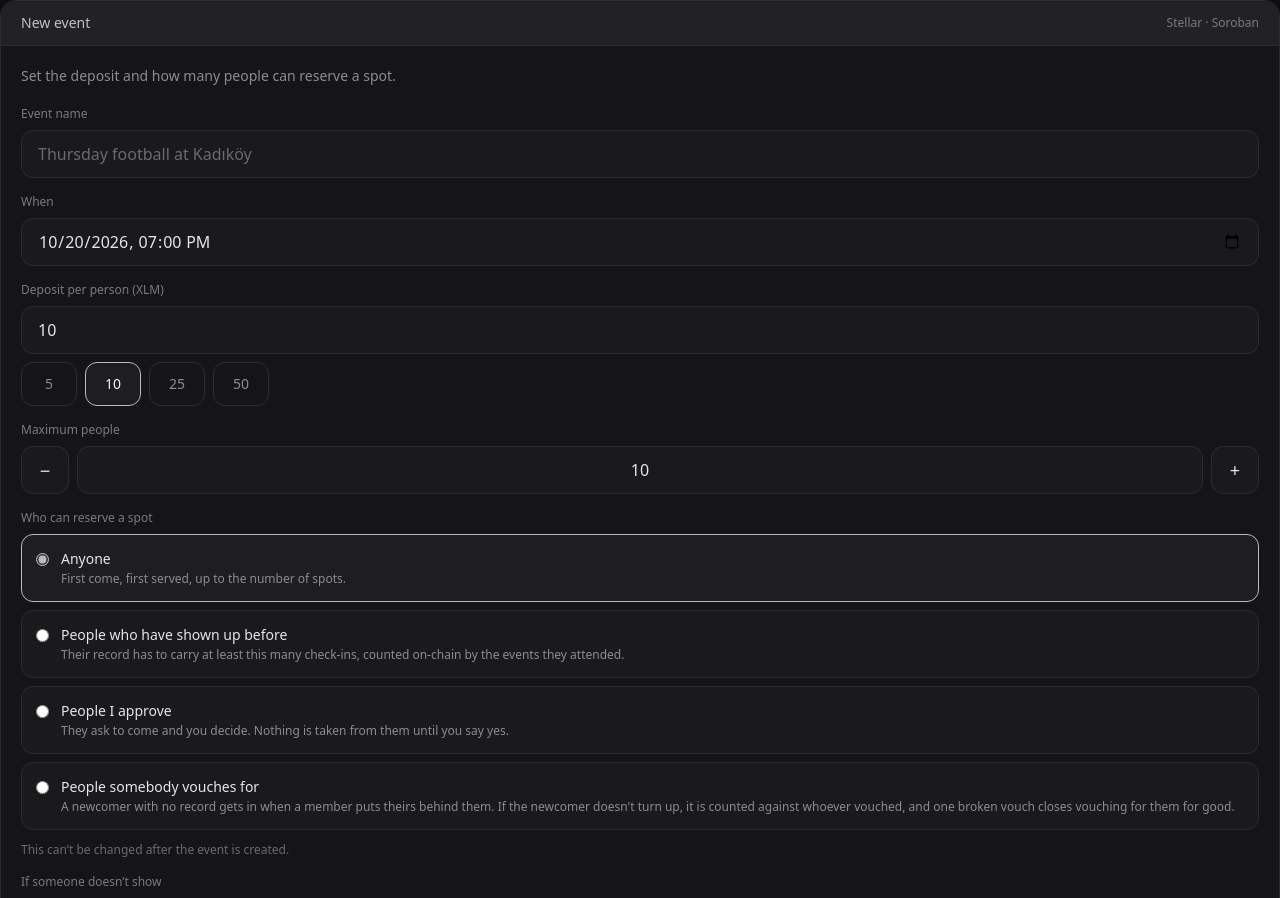
Test: CreateEvent — when it corrects you › speaks up once you leave the field
In the field labelled "Deposit per person (XLM) 5 10 25 50": (640, 330) x1=21 y1=306 x2=1259 y2=354, type "10.12345678"
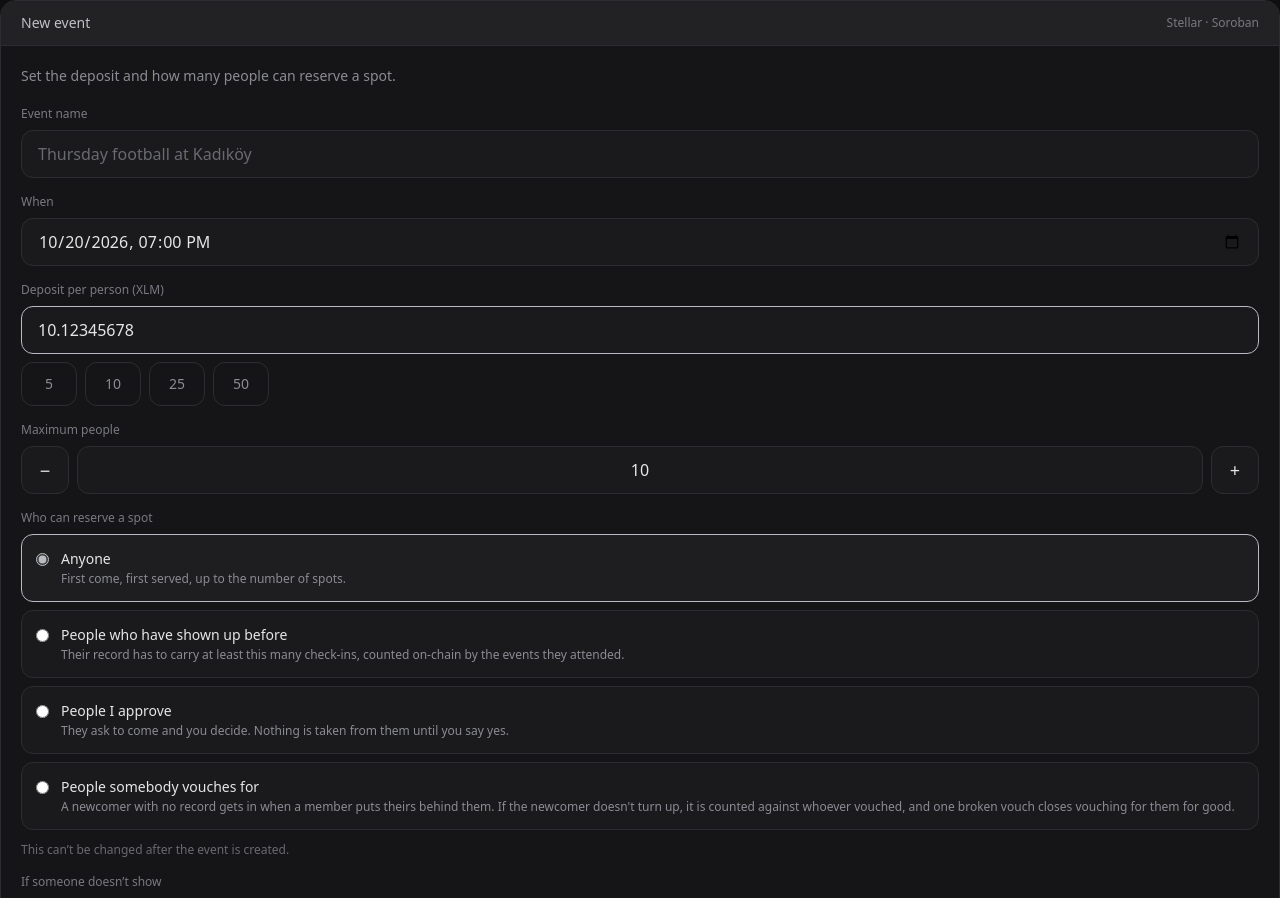
Expected: the text "at most 7 decimals" is not shown
Press Tab
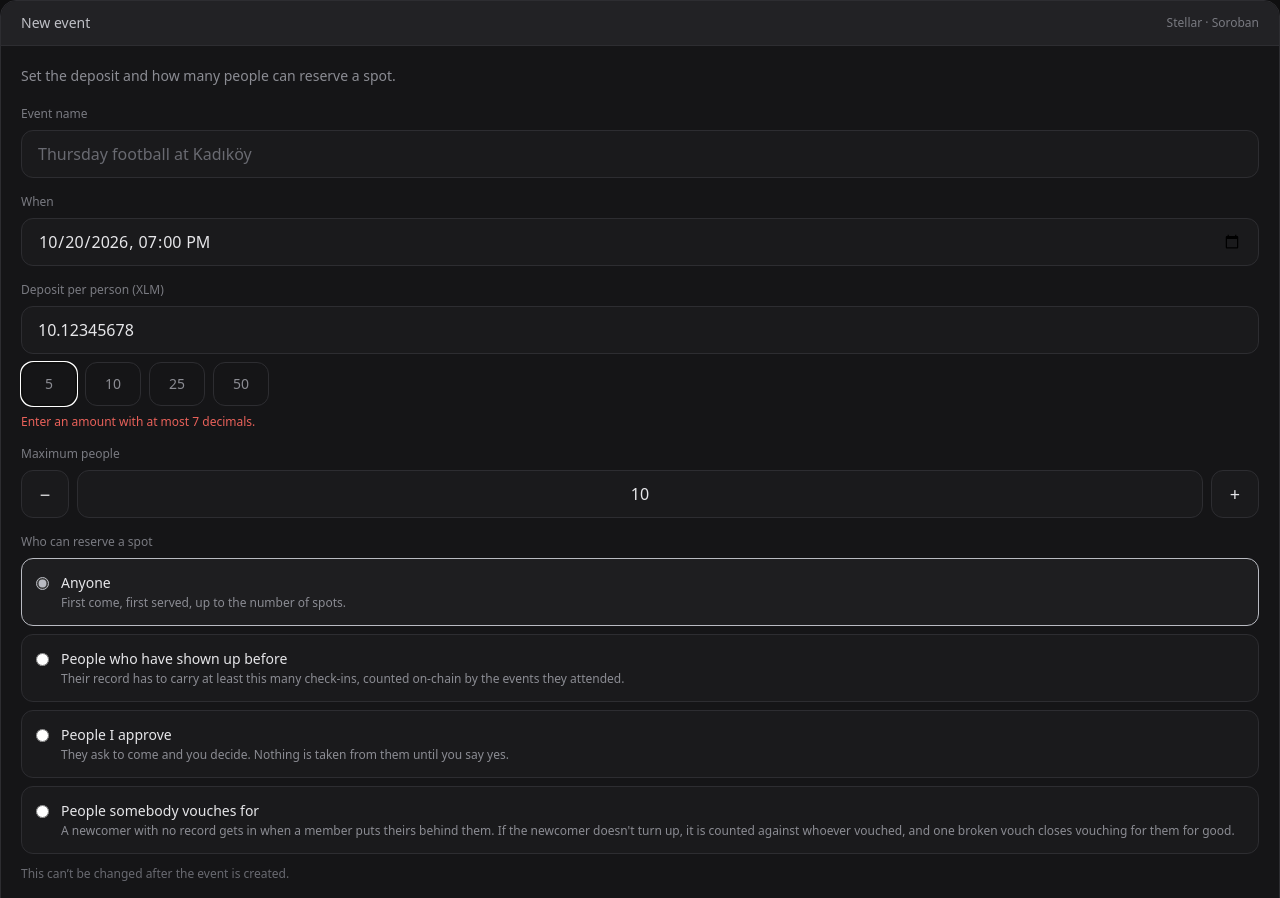
Expected: the text "Enter an amount with at most 7 decimals." is shown, x1=21 y1=413 x2=255 y2=430
